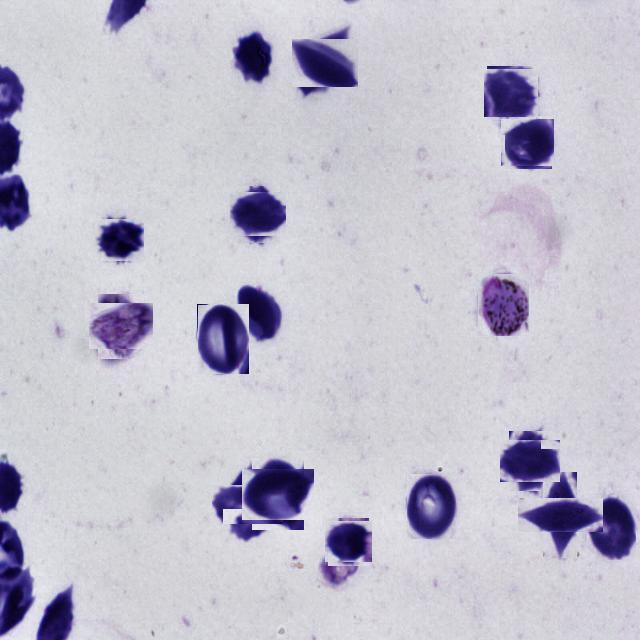difficult: (94, 298, 148, 354)
gametocyte: (477, 273, 529, 336)
red blood cell: (247, 463, 309, 525), (197, 304, 249, 374), (530, 485, 590, 545), (297, 34, 354, 92), (586, 494, 636, 560), (407, 474, 456, 539), (220, 478, 276, 532), (504, 435, 556, 487), (486, 68, 538, 119), (502, 118, 554, 168), (233, 189, 283, 240), (238, 284, 282, 341), (232, 30, 274, 84), (96, 218, 142, 264), (326, 520, 371, 564)
